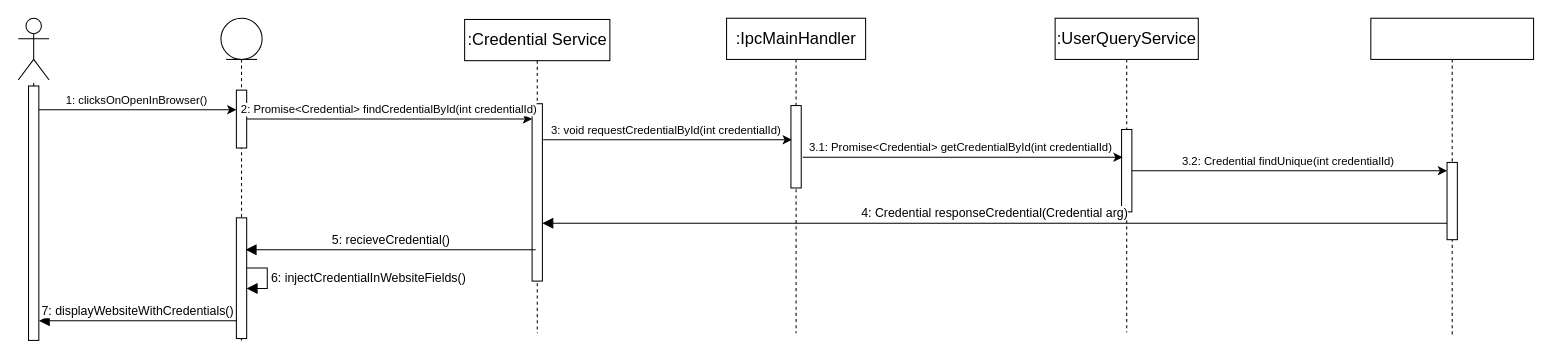
Some shapes in this 1552 by 359 pixel diagram are drawn without their labels. Each missing label, with the centre of its shape:
":Credential Container" goes at (x=1452, y=176).
"GUI" goes at (x=241, y=179).
